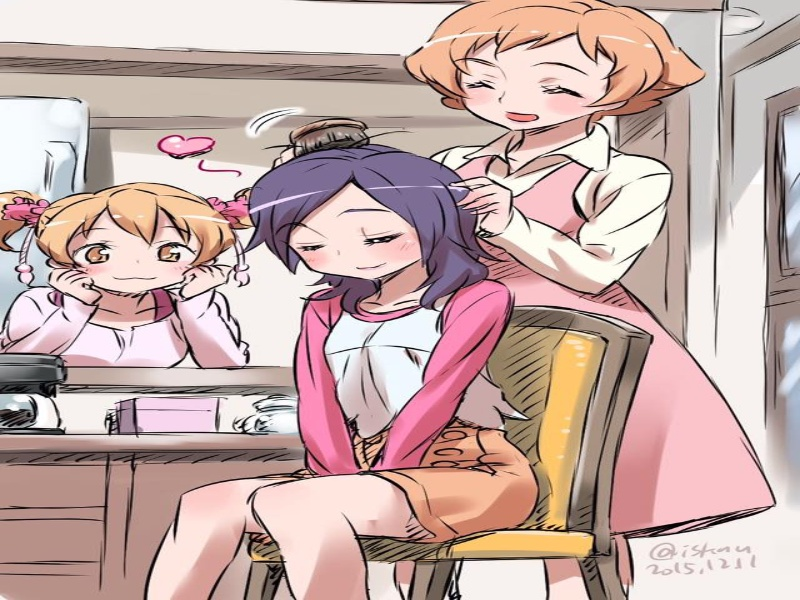dress: (473, 163, 785, 537)
person: (409, 1, 649, 137), (256, 151, 462, 292), (26, 180, 246, 306)
